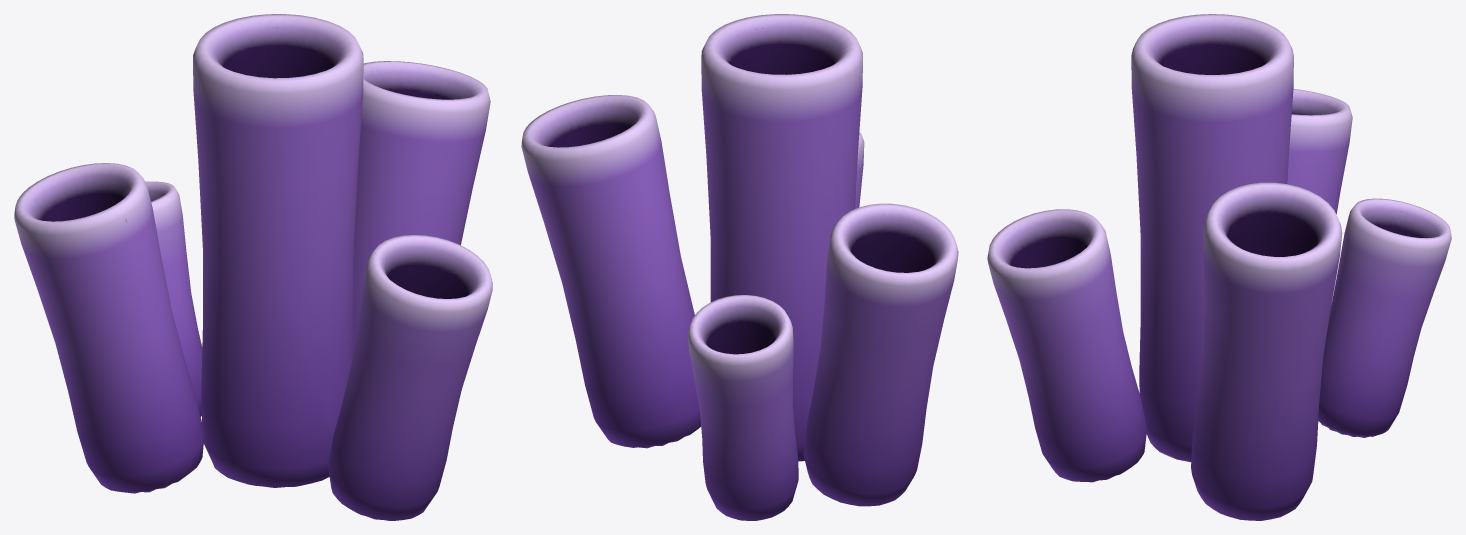
The model's file is coral_tube.glb.
3 views of the same model, side by side, from view 1: azimuth 30°, elevation 25°; view 2: azimuth 150°, elevation 25°; view 3: azimuth 270°, elevation 25° (orthographic). The views are drawn at different scales.
Parts seen in each view (by area): view 1: CoralTube; view 2: CoralTube; view 3: CoralTube.
Part boxes in pixels (x1,y1,x2,y2): CoralTube: (14, 14, 492, 520); CoralTube: (521, 14, 958, 520); CoralTube: (987, 14, 1451, 520).
Bounding box in the file's own units: 1.28 × 1.16 × 1.2.
Materials: 1 (1 with a texture image).
